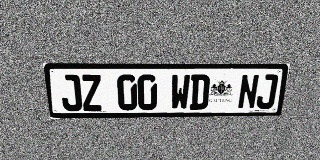0: (117, 74, 137, 111), (137, 74, 157, 110)
D: (189, 74, 210, 110)
J: (59, 74, 83, 111), (255, 74, 279, 109)
N: (237, 74, 260, 109)
W: (170, 74, 190, 110)
Z: (80, 74, 103, 111)
